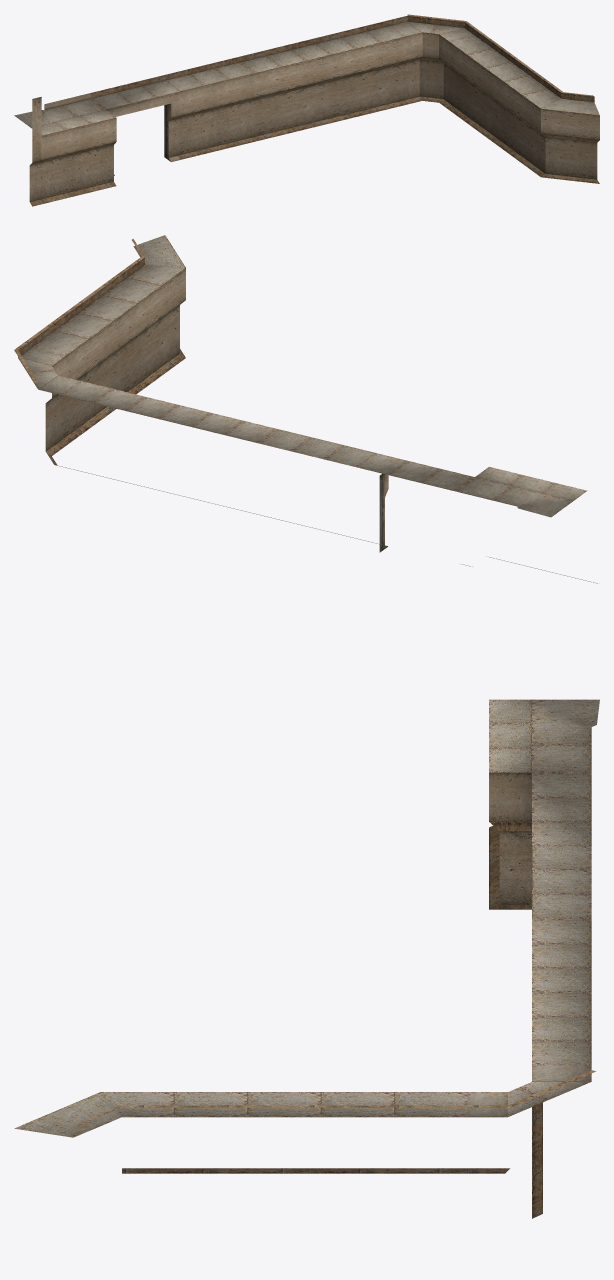
Rendered from M11_CompWallInner_A.glb.
3 views of the same model, one above another, from view 1: azimuth 30°, elevation 25°; view 2: azimuth 150°, elevation 25°; view 3: azimuth 270°, elevation 25° (orthographic). The views are drawn at different scales.
Visible parts, largest first — view 1: M11_COMPWALLINNER_A; view 2: M11_COMPWALLINNER_A; view 3: M11_COMPWALLINNER_A.
Part boxes in pixels (bbox=[...]): M11_COMPWALLINNER_A: bbox=[14, 14, 599, 206]; M11_COMPWALLINNER_A: bbox=[14, 235, 597, 583]; M11_COMPWALLINNER_A: bbox=[14, 699, 599, 1218].
Size of the model in its own units: 49 by 11 by 27.14.
4 materials, 4 textured.
